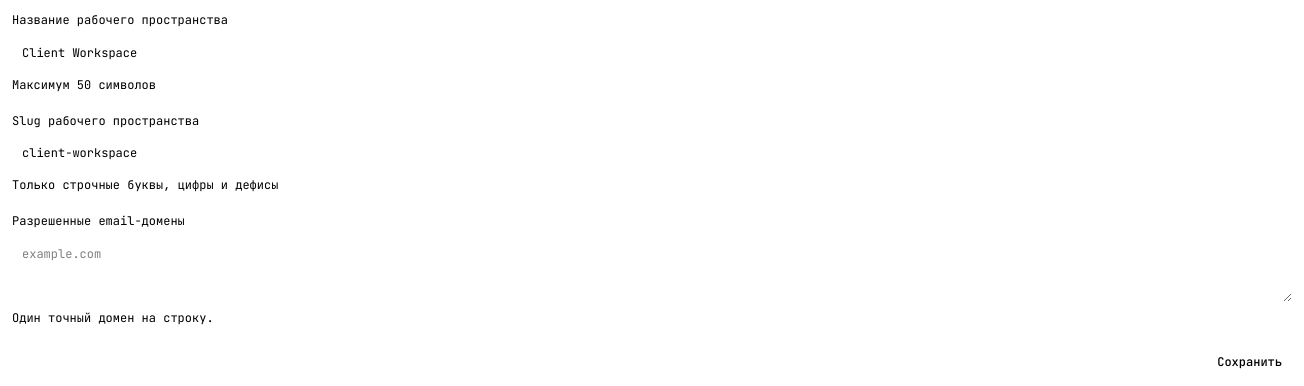
Test: WorkspaceSettingsForm › shows field validation during editing and replaces the hint in the same message row
Clear the field labelled "Название рабочего пространства" at (652, 52), box 12,36 -> 1292,68
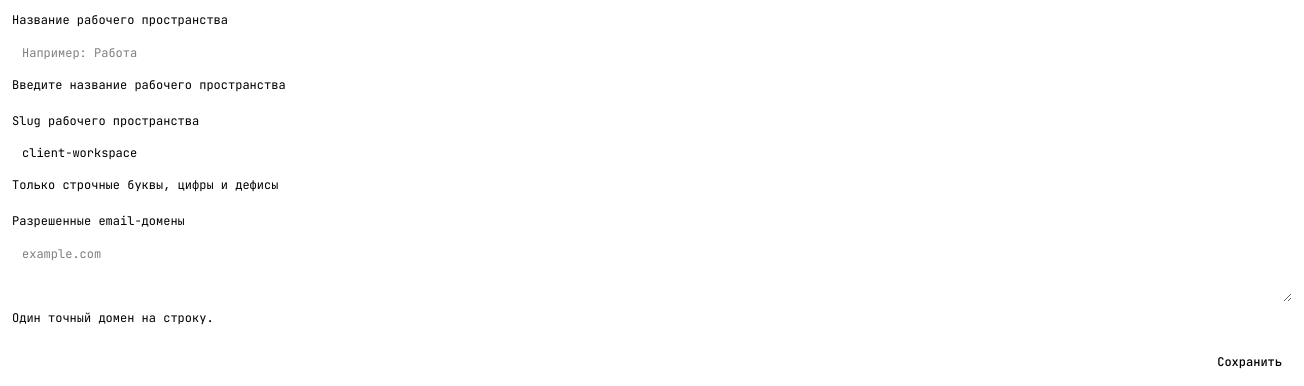
Expected: the text "Введите название рабочего пространства" is shown, 12,76 -> 286,92
